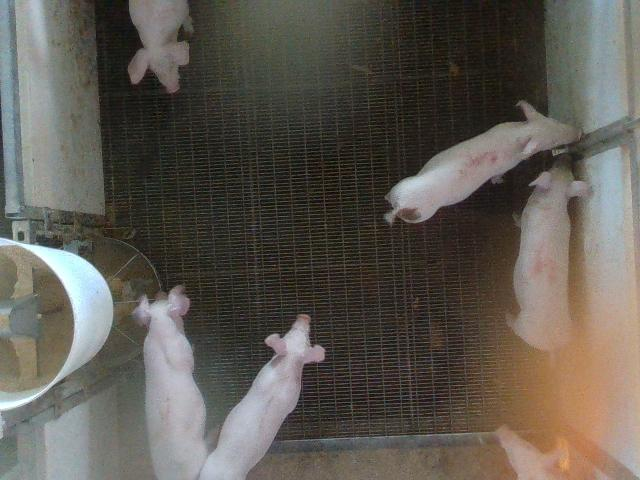pig-4: (508, 155, 589, 351)
pig-5: (385, 101, 580, 222)
